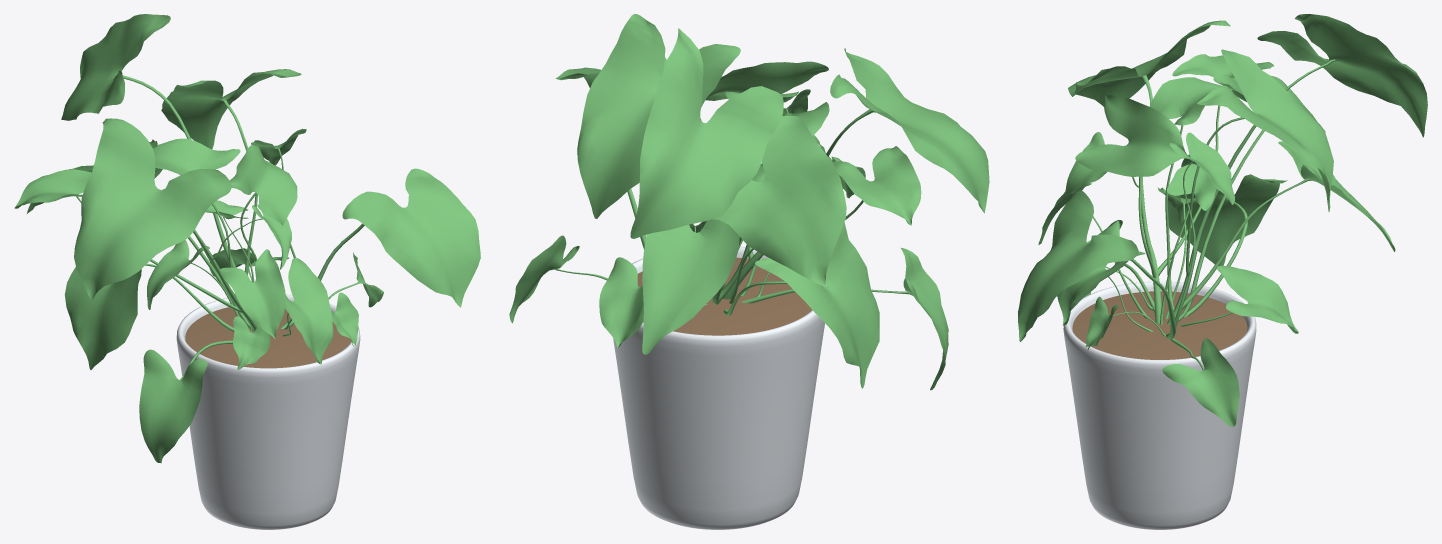
The model's file is living_plant.glb.
The picture shows the model from 3 angles, left to right: view 1: azimuth 30°, elevation 25°; view 2: azimuth 150°, elevation 25°; view 3: azimuth 270°, elevation 25°; orthographic projection. The views are drawn at different scales.
Visible parts, largest first — view 1: LivingPlant; view 2: LivingPlant; view 3: LivingPlant.
Part boxes in pixels (x1,y1,x2,y2): LivingPlant: (14, 14, 480, 529); LivingPlant: (509, 14, 989, 529); LivingPlant: (1018, 14, 1427, 529).
Size of the model in its own units: 1.32 by 1.54 by 1.21.
